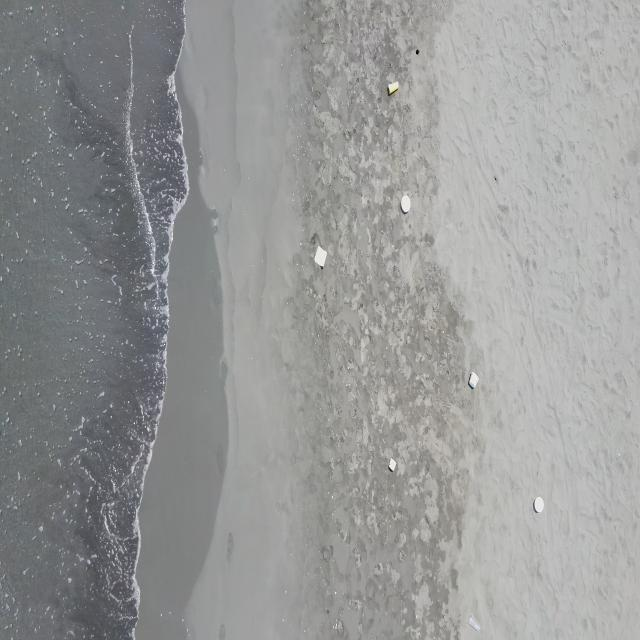take-away-containers: (314, 245, 328, 269), (469, 370, 479, 390), (401, 195, 411, 214), (534, 496, 544, 513), (388, 458, 397, 472)
takeaway-cup: (468, 612, 481, 632), (388, 82, 399, 95)
